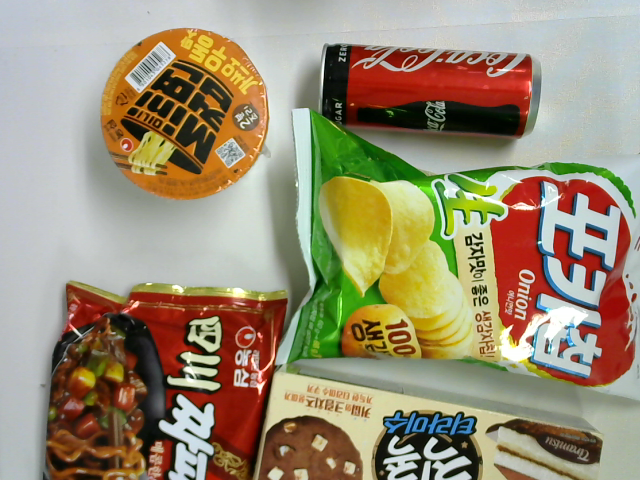Chicchok_Tiramisu: (250, 362, 605, 480)
Coca_Cola_Zero_Can_250ml: (319, 40, 541, 139)
Pocachip_Onion: (272, 107, 640, 399)
Sichuan_Chapaghetti: (38, 280, 292, 480)
Udongmini: (102, 21, 271, 200)
